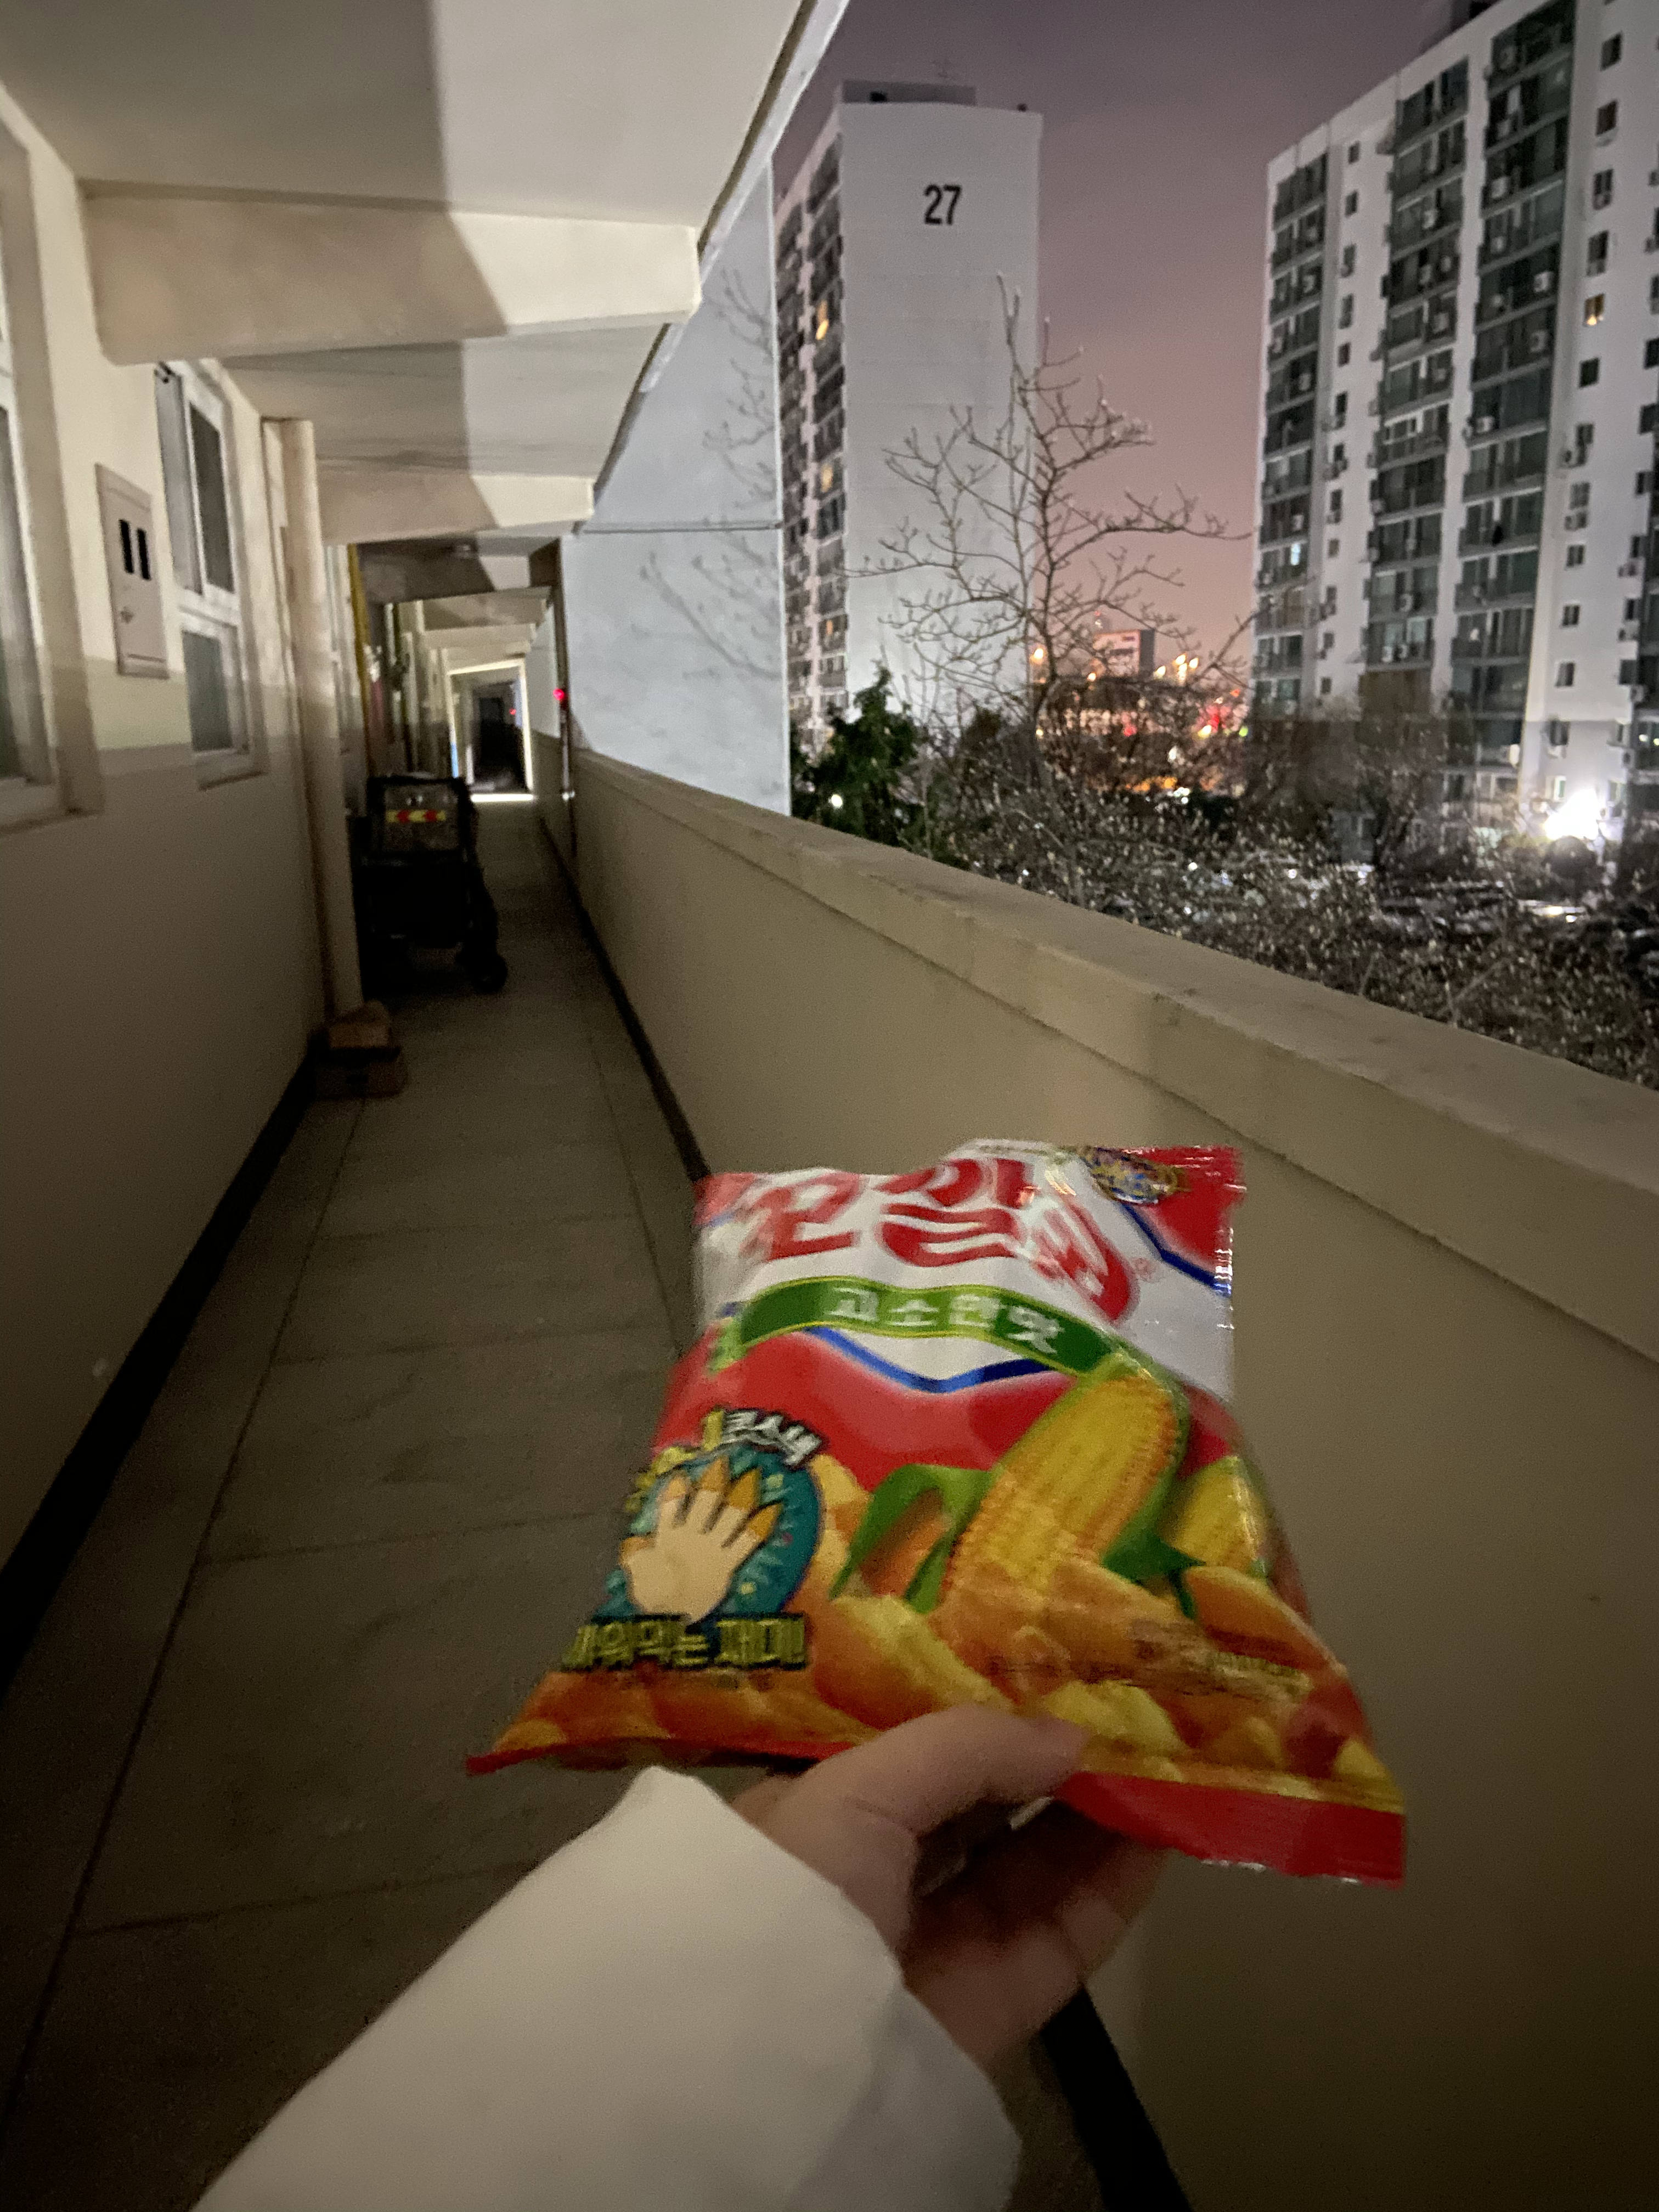ggoggalcon: (446, 1120, 1445, 1949)
